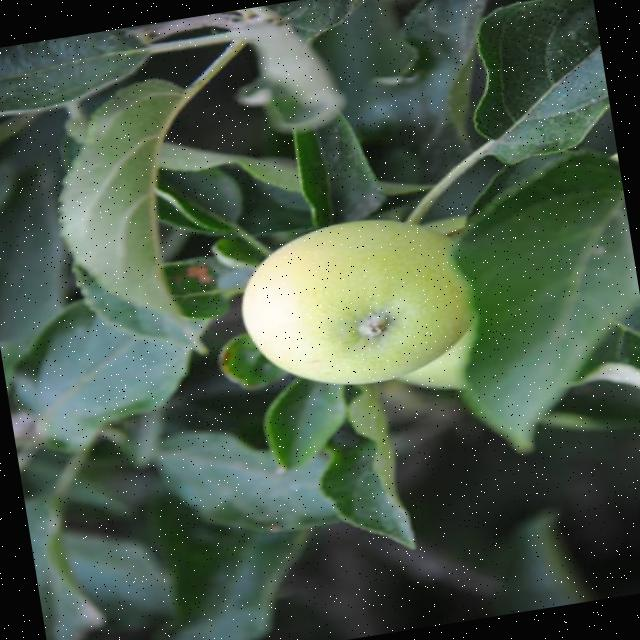Unripe: (228, 204, 482, 400)
